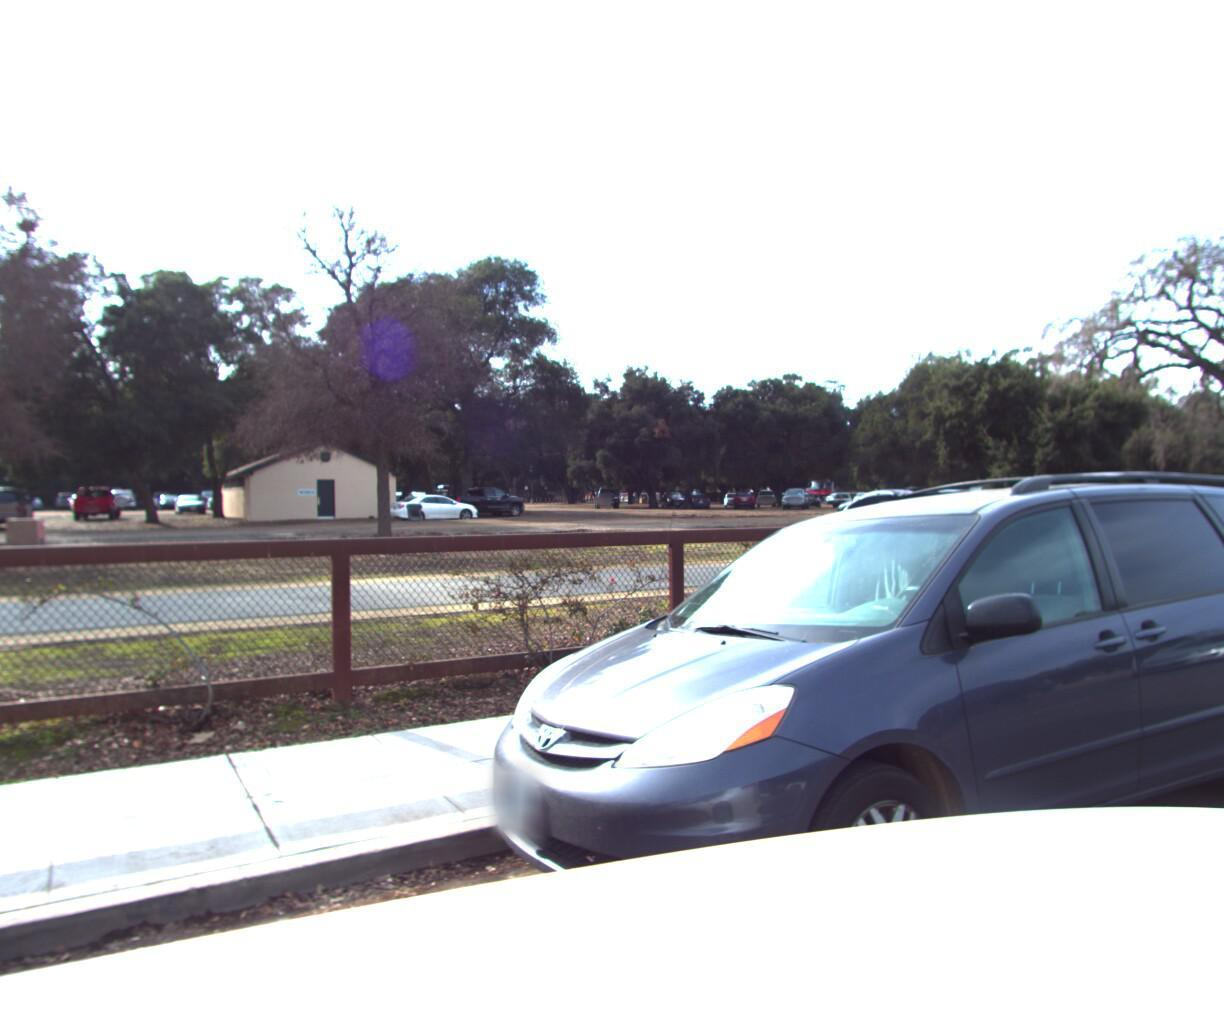car: (413, 436, 1224, 1024), (1116, 401, 1224, 756)
